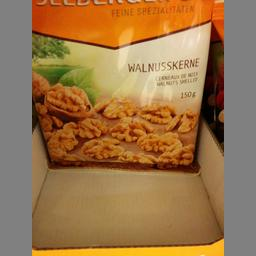nuts: (30, 0, 212, 174)
